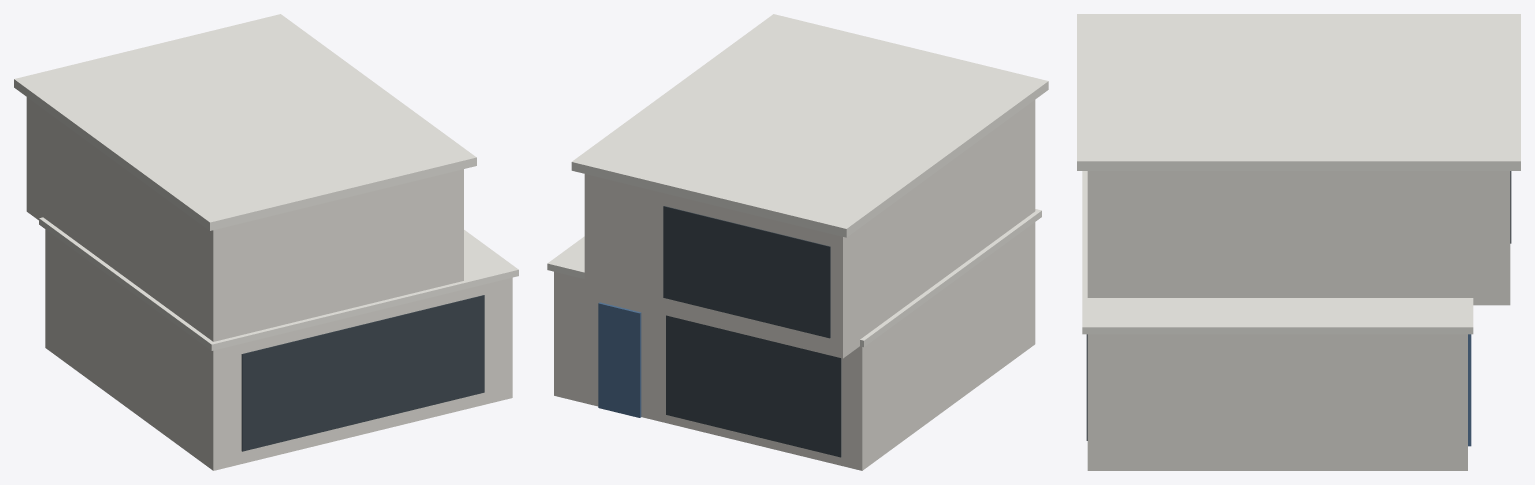
File: ca_modern.glb
3 renders of one model, left to right at view 1: azimuth 30°, elevation 25°; view 2: azimuth 150°, elevation 25°; view 3: azimuth 270°, elevation 25°, orthographic. The views are drawn at different scales.
Visible parts, largest first — view 1: ca_modern; view 2: ca_modern; view 3: ca_modern.
Part boxes in pixels (x1=…): ca_modern: x1=14, y1=14, x2=518, y2=470; ca_modern: x1=547, y1=14, x2=1048, y2=470; ca_modern: x1=1077, y1=14, x2=1520, y2=470.
Bounding box in the file's own units: 7.7 × 6 × 8.4.
